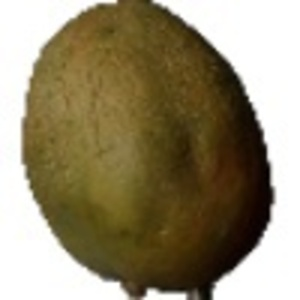mamão: (16, 2, 278, 286)
